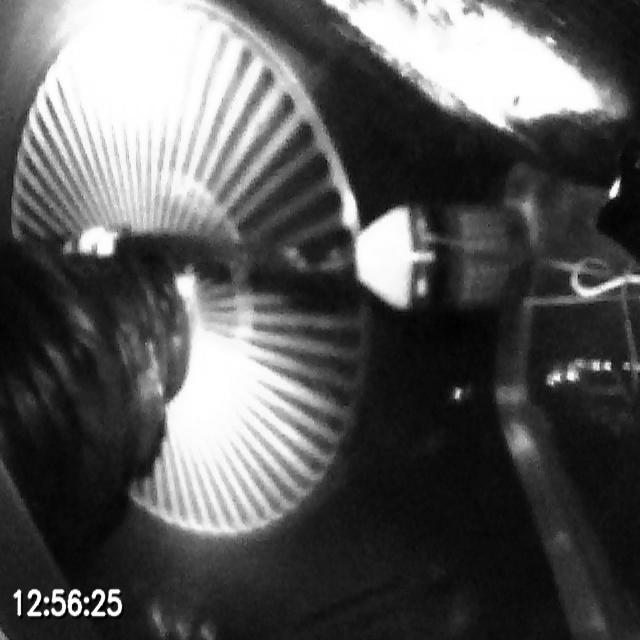head: (356, 204, 534, 311)
white-dots: (62, 227, 118, 258)
